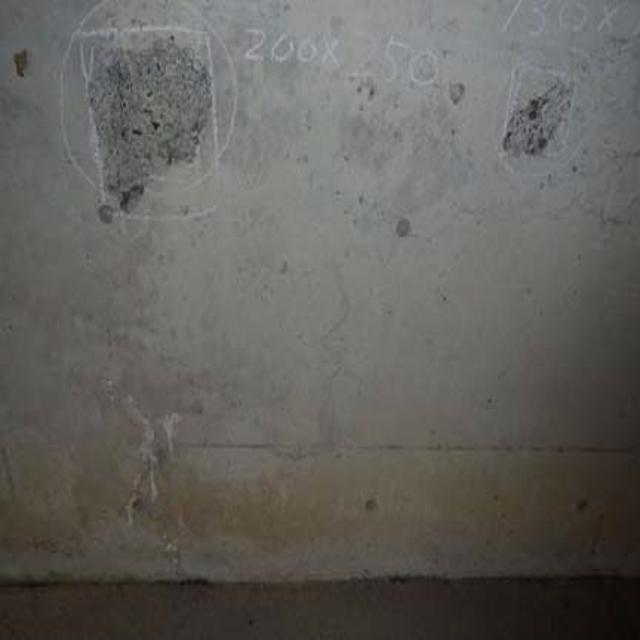spalling: (74, 26, 237, 216), (486, 70, 586, 166)
